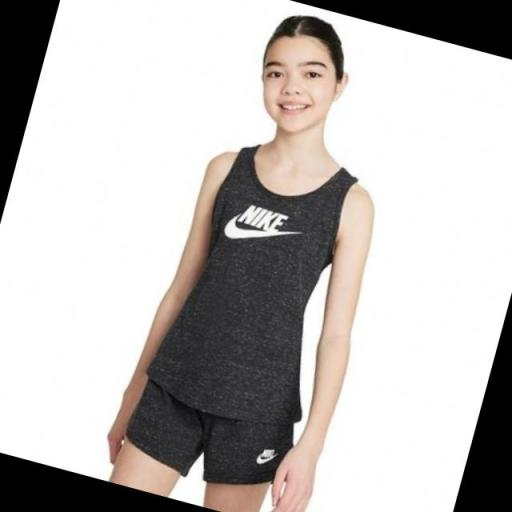Nike: (223, 212, 295, 254), (235, 202, 288, 236)
